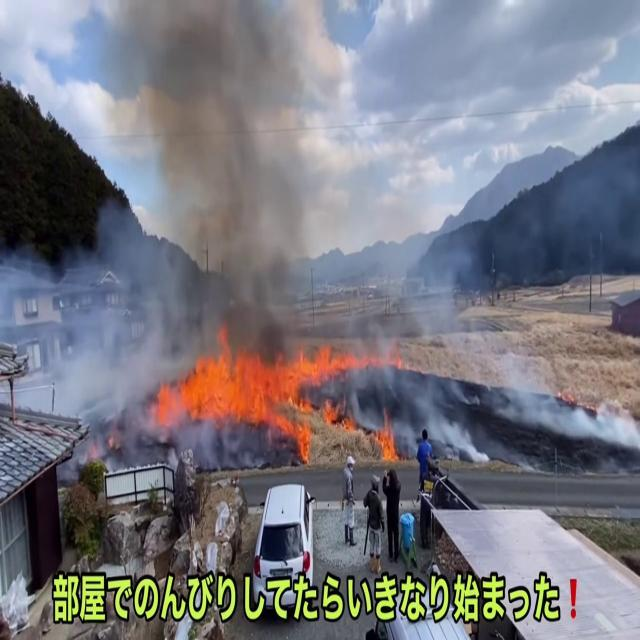Fire: (154, 332, 364, 445)
Smoke: (118, 2, 320, 356), (2, 204, 178, 426)
